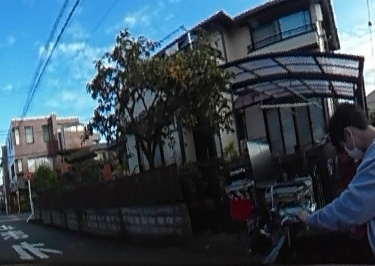person: (293, 102, 375, 262)
